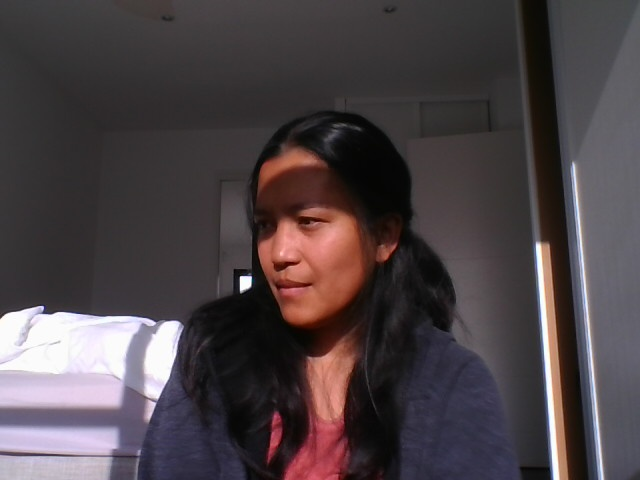face: (256, 111, 411, 325)
